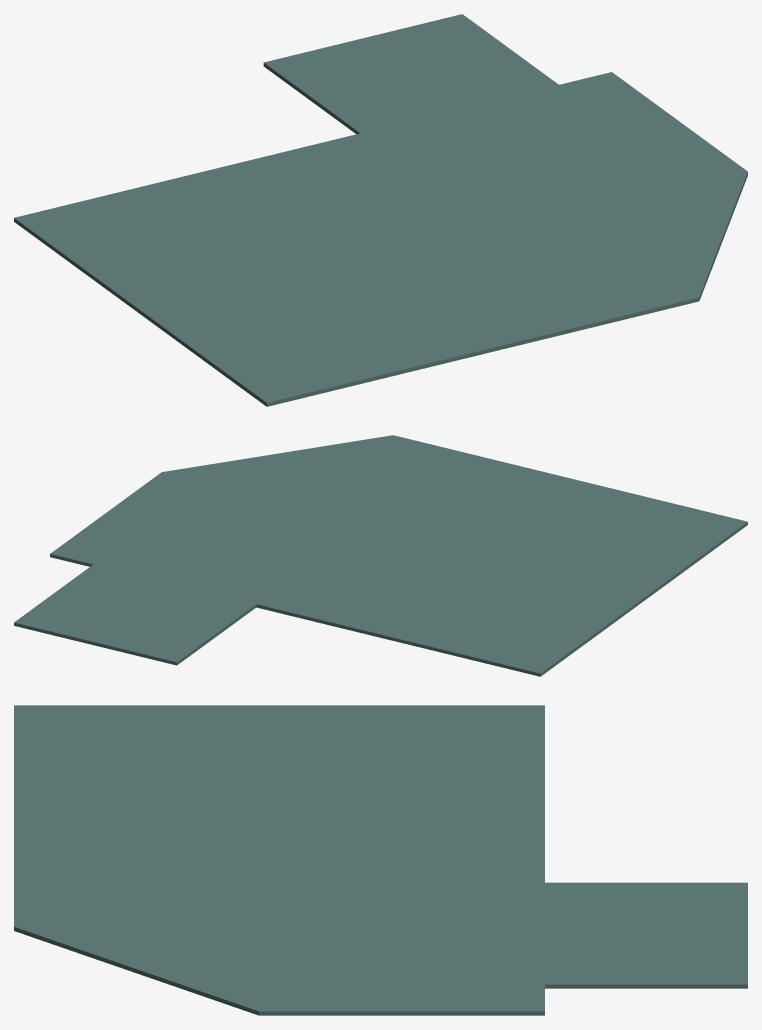
The model's file is weapons_floor.fbx.
3 views of the same model, one above another, from view 1: azimuth 30°, elevation 25°; view 2: azimuth 150°, elevation 25°; view 3: azimuth 270°, elevation 25° (orthographic). The views are drawn at different scales.
Visible parts, largest first — view 1: Plane.009; view 2: Plane.009; view 3: Plane.009.
Part boxes in pixels (x1,y1,x2,y2): Plane.009: (14,14,747,406); Plane.009: (14,435,747,676); Plane.009: (14,705,747,1015).
Size of the model in its own units: 1572 by 10 by 1593.
